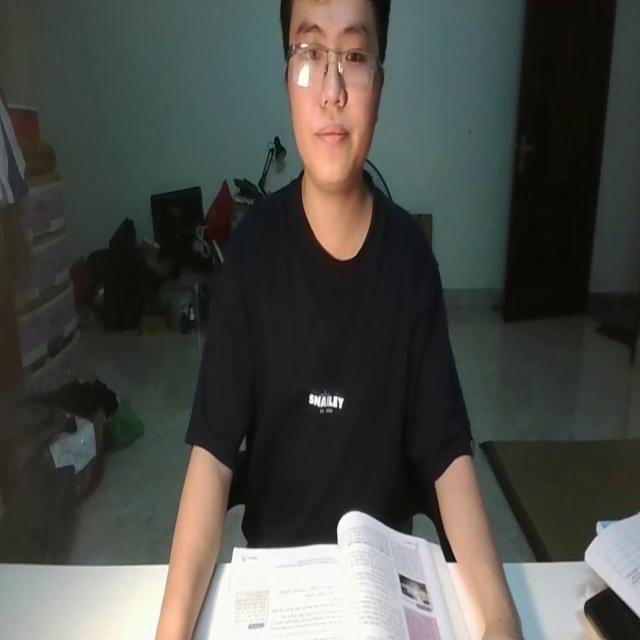book: (222, 513, 468, 640)
student: (152, 0, 524, 640)
